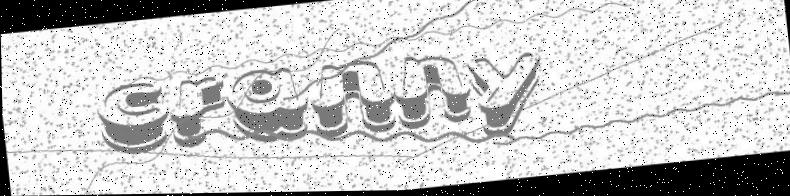a: (225, 64, 311, 148)
c: (94, 80, 170, 158)
n: (306, 57, 398, 142), (391, 53, 473, 131)
r: (166, 73, 230, 150)
y: (466, 52, 546, 141)
